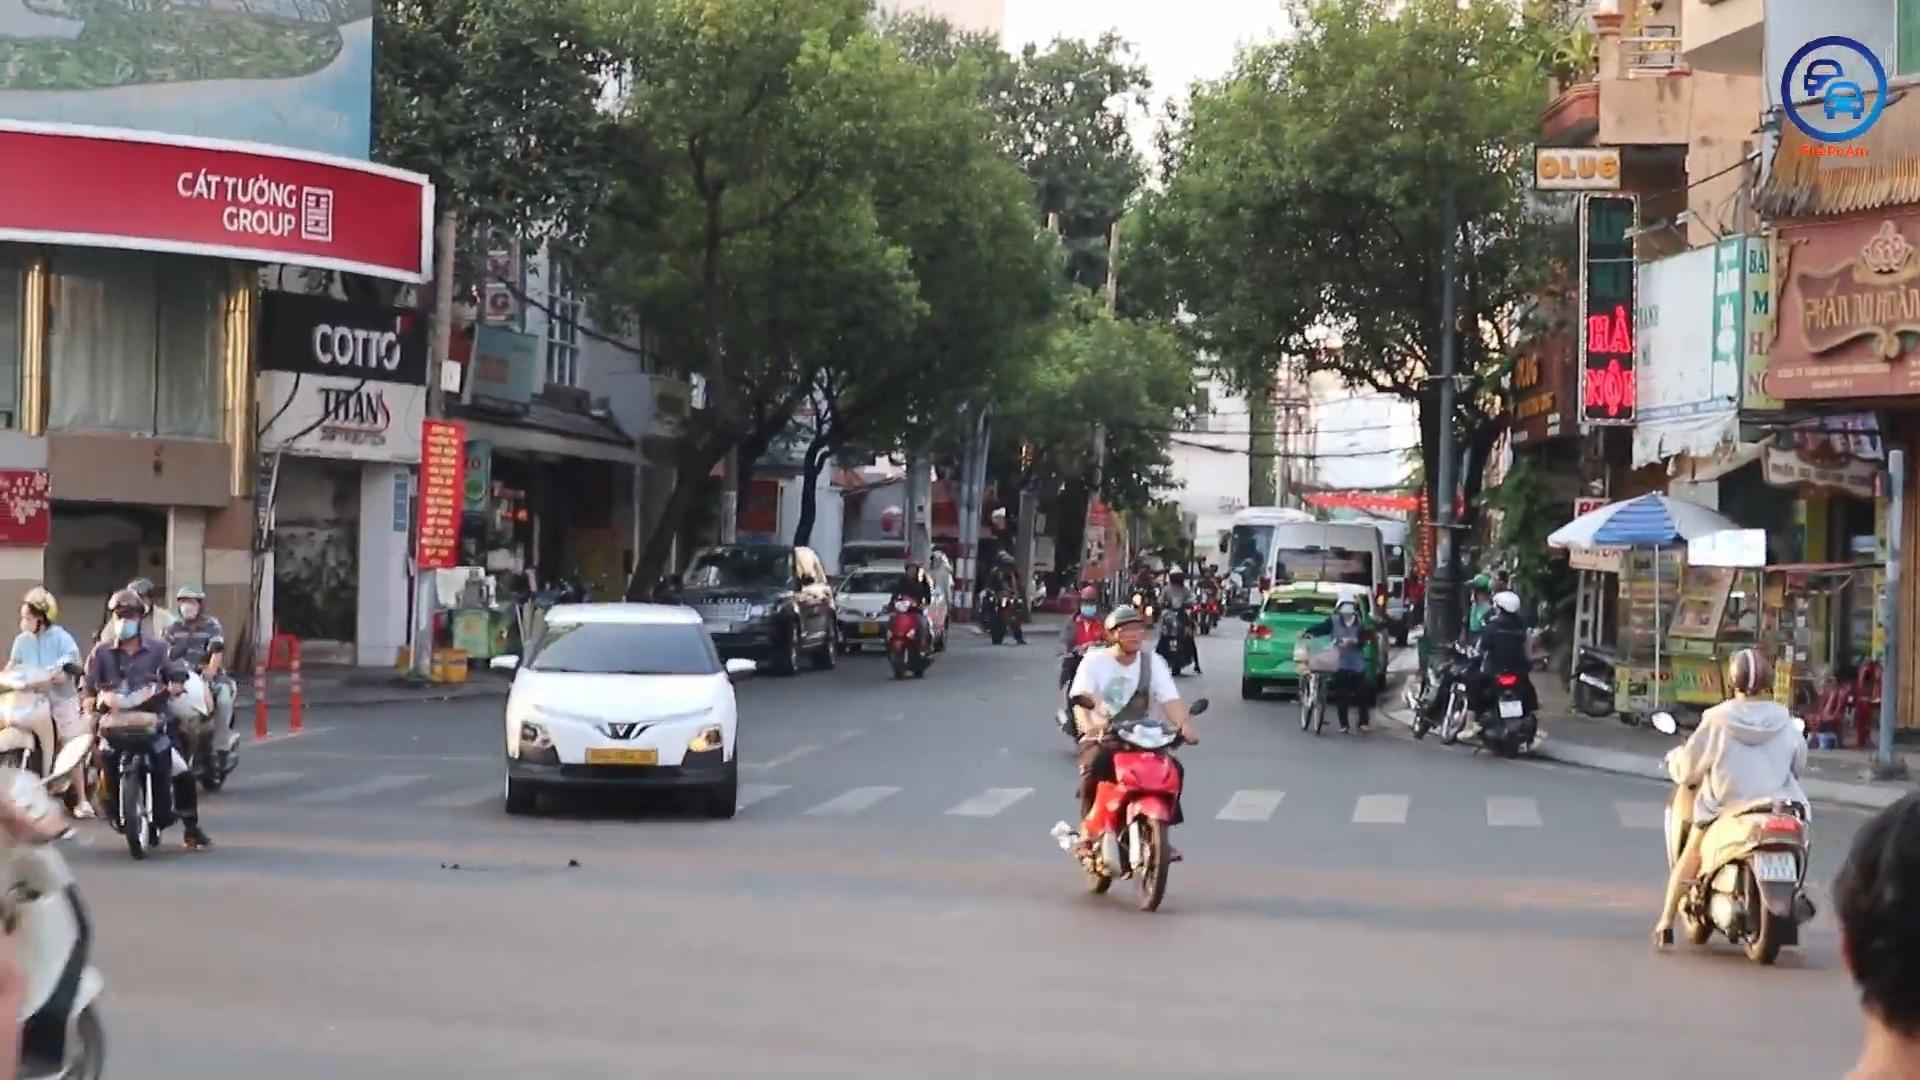bien_so: (582, 744, 661, 766), (1753, 850, 1799, 883), (1498, 699, 1524, 719), (858, 620, 880, 634)
